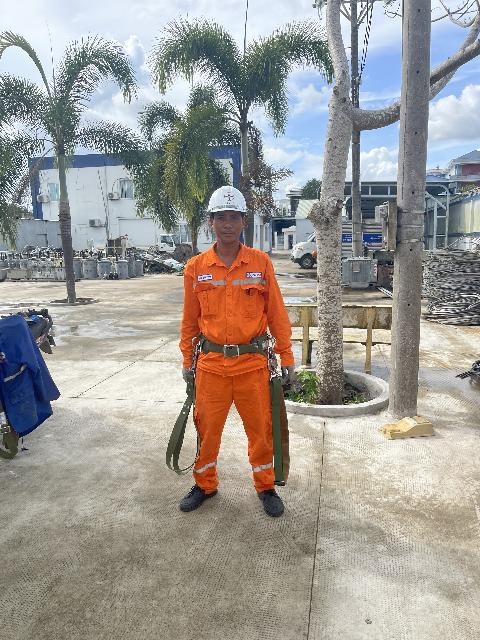gloves: (280, 362, 300, 387), (178, 368, 196, 388)
harness: (184, 332, 280, 361)
helmet: (202, 185, 258, 219)
shoes: (174, 477, 224, 513), (251, 482, 288, 522)
